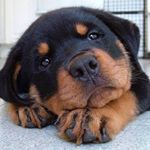puppy: (1, 2, 148, 146)
